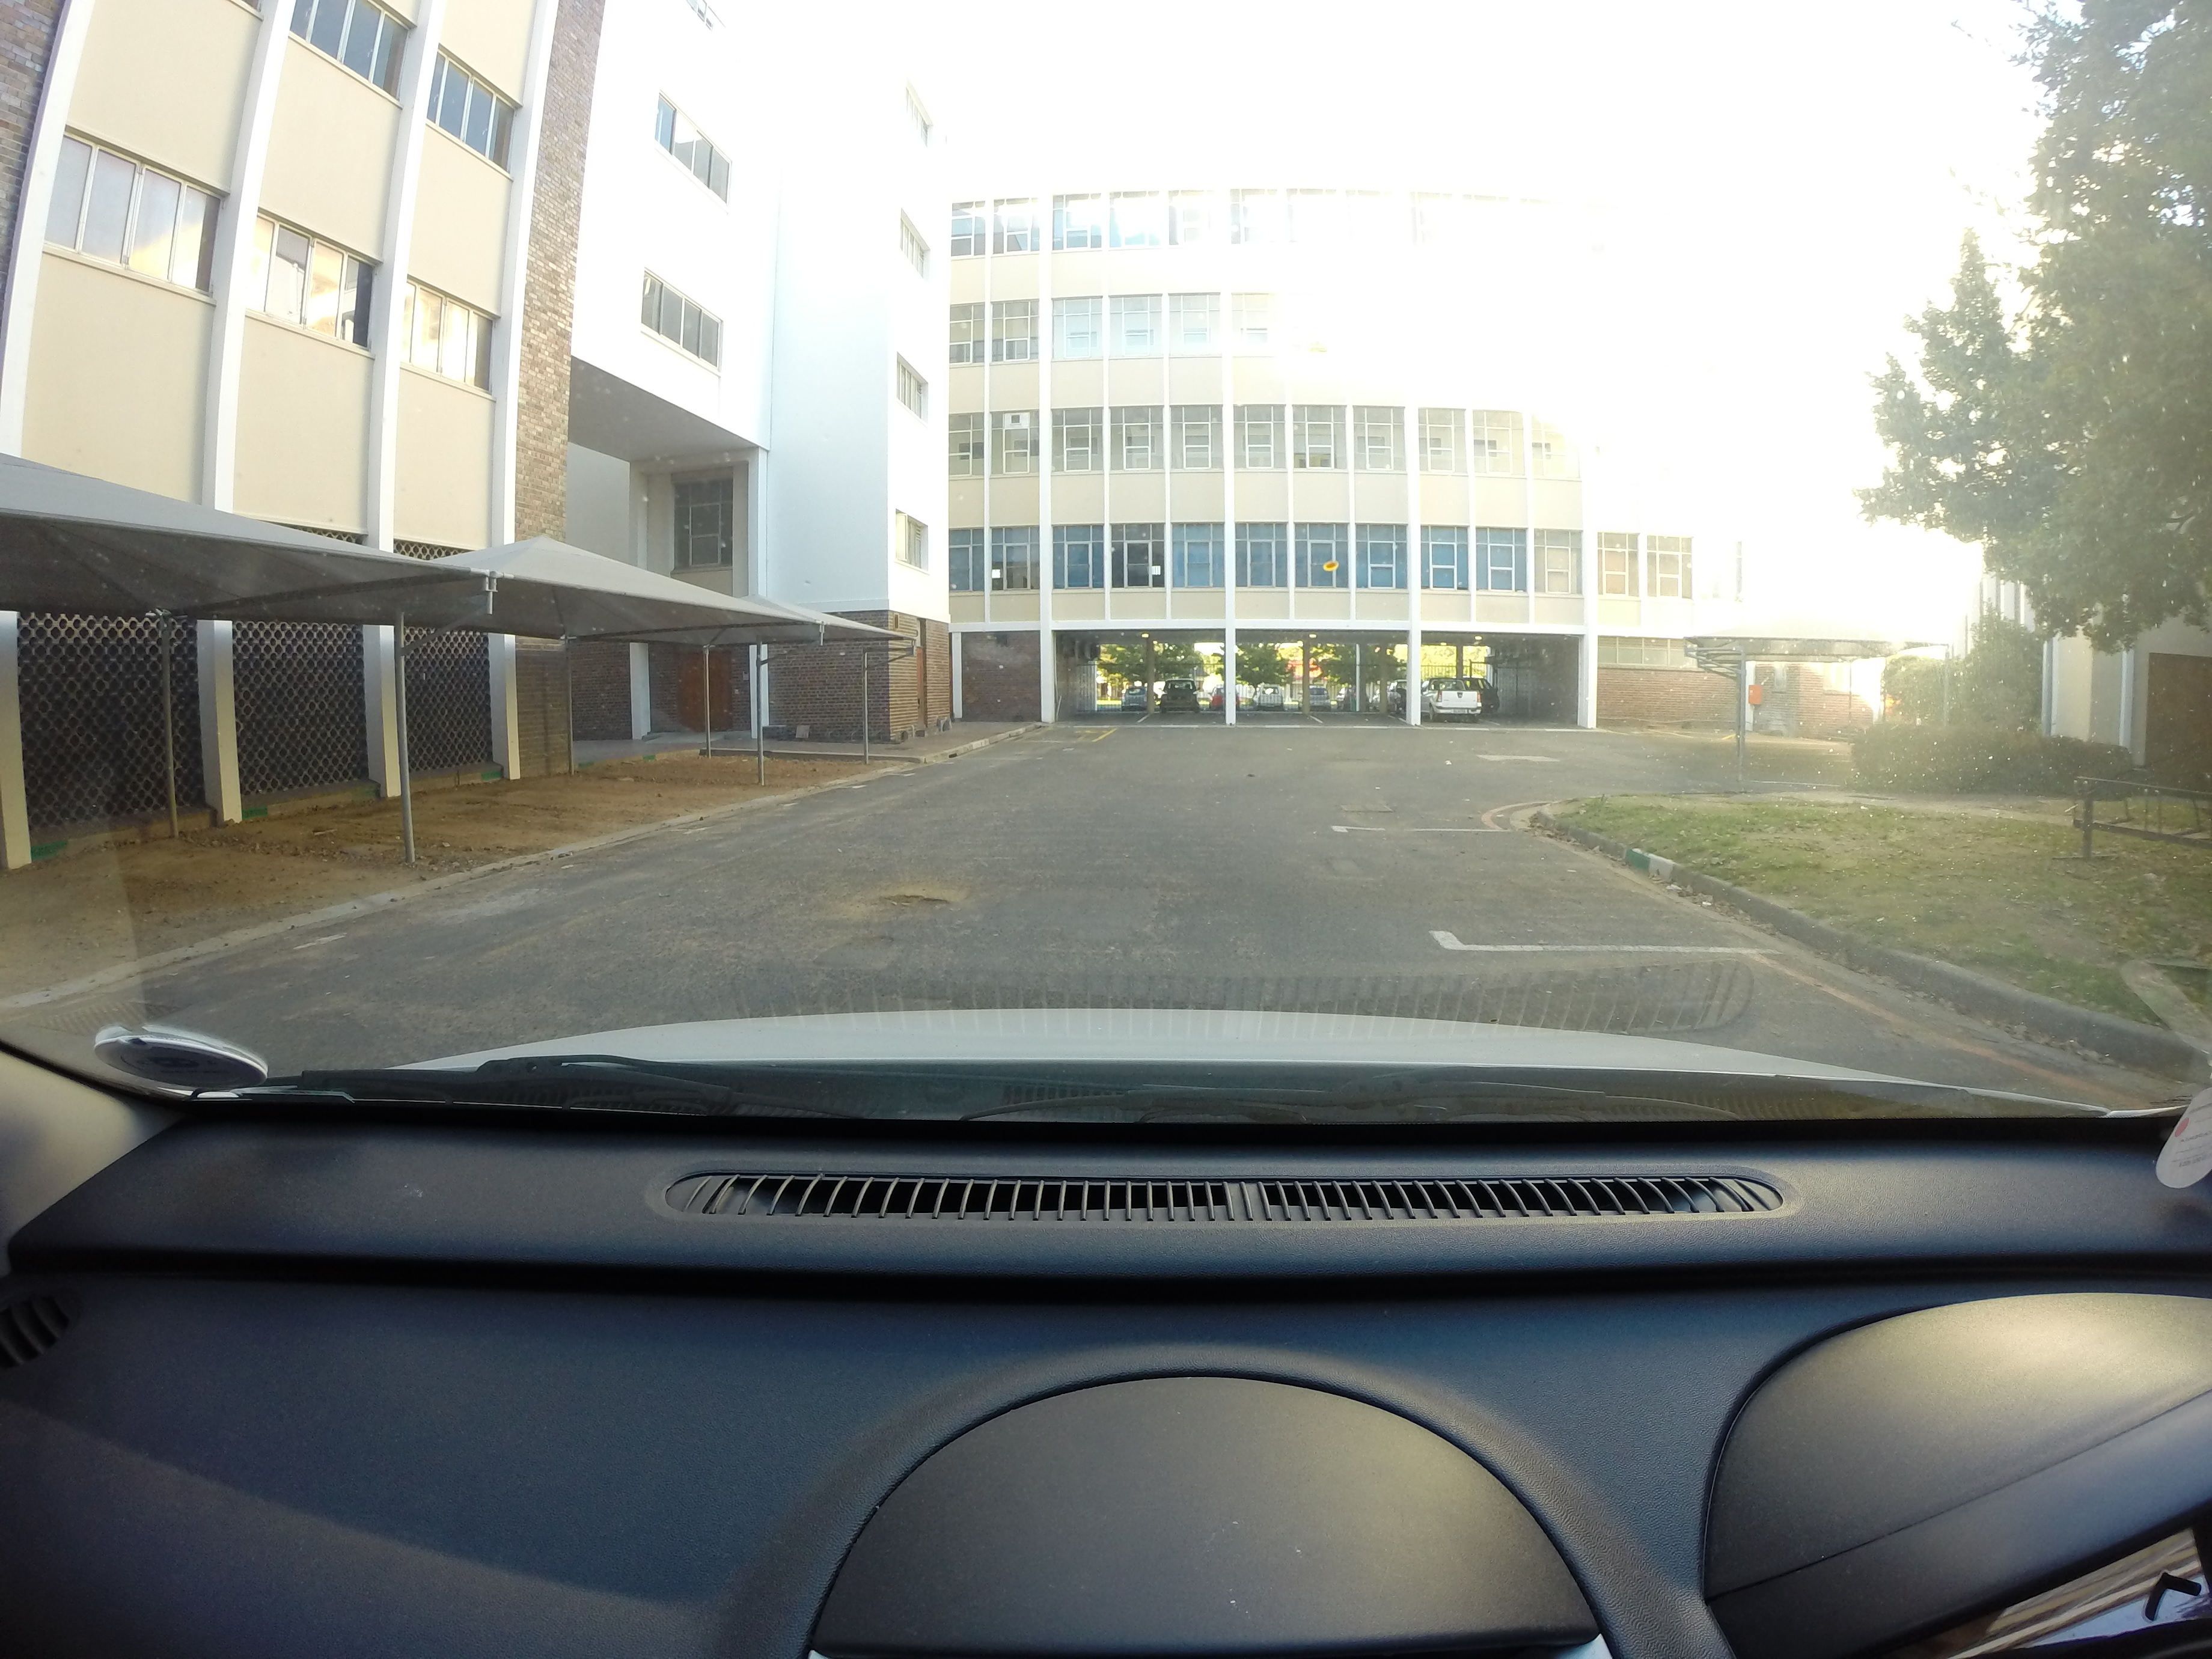pothole: (841, 889, 981, 915)
